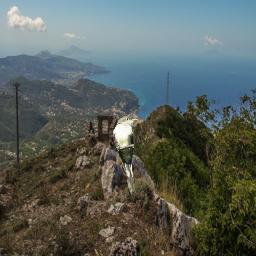Cuckoo: (113, 115, 138, 194)
